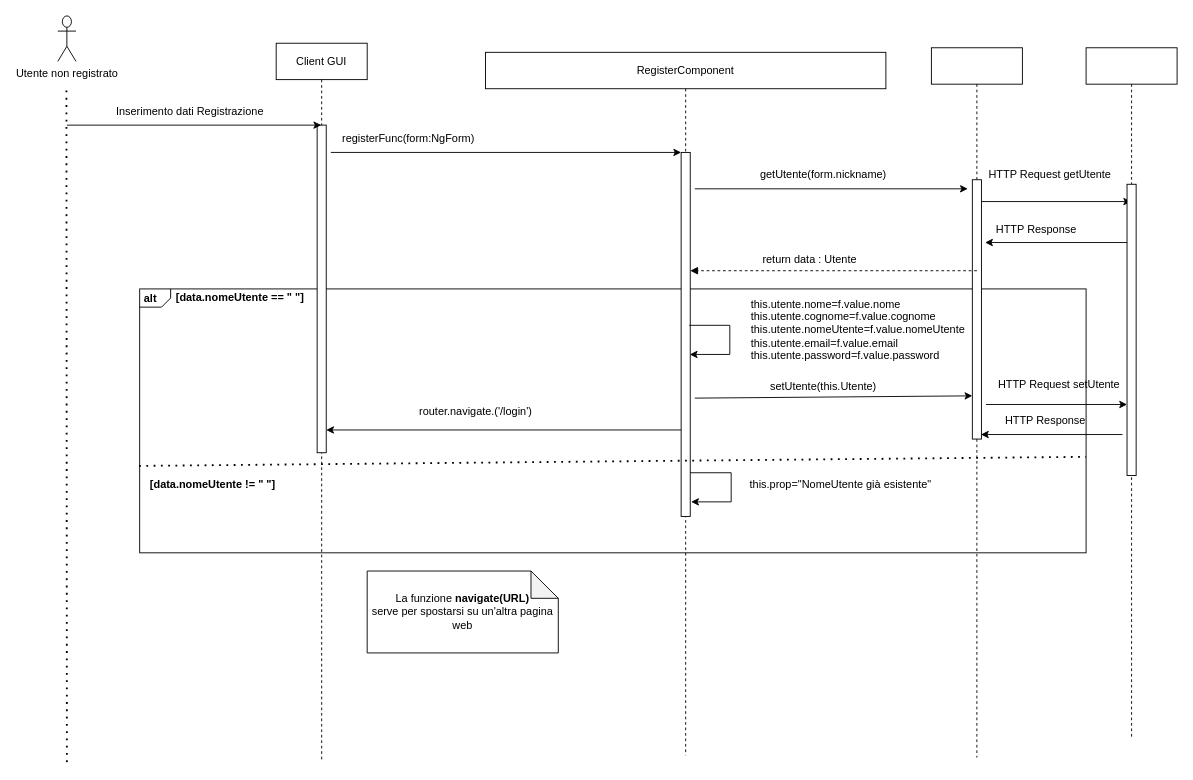
Image size: 1193x780. Some labels were removed from this diagram. The shapes that lost their labels are listed below. From the top down, each one's box as (x1, y1, x2, y2) in pixels, then its label:
(930, 47, 1022, 758): UtenteService
(1085, 47, 1177, 739): Server
